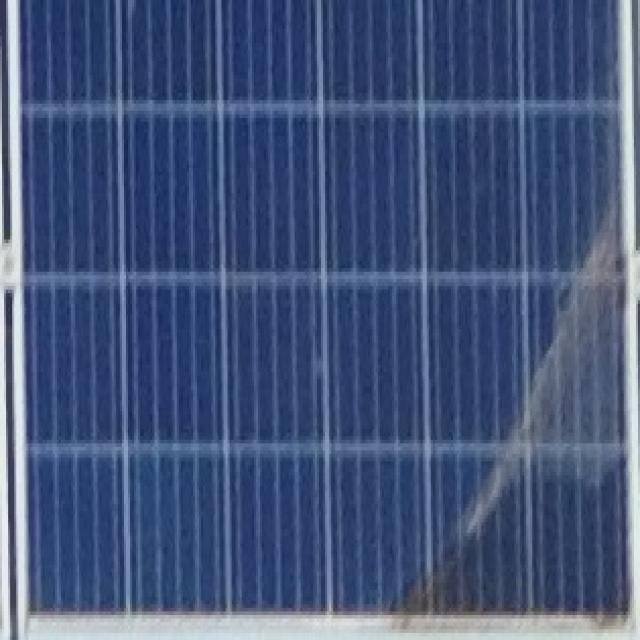Dust: (383, 182, 627, 628)
